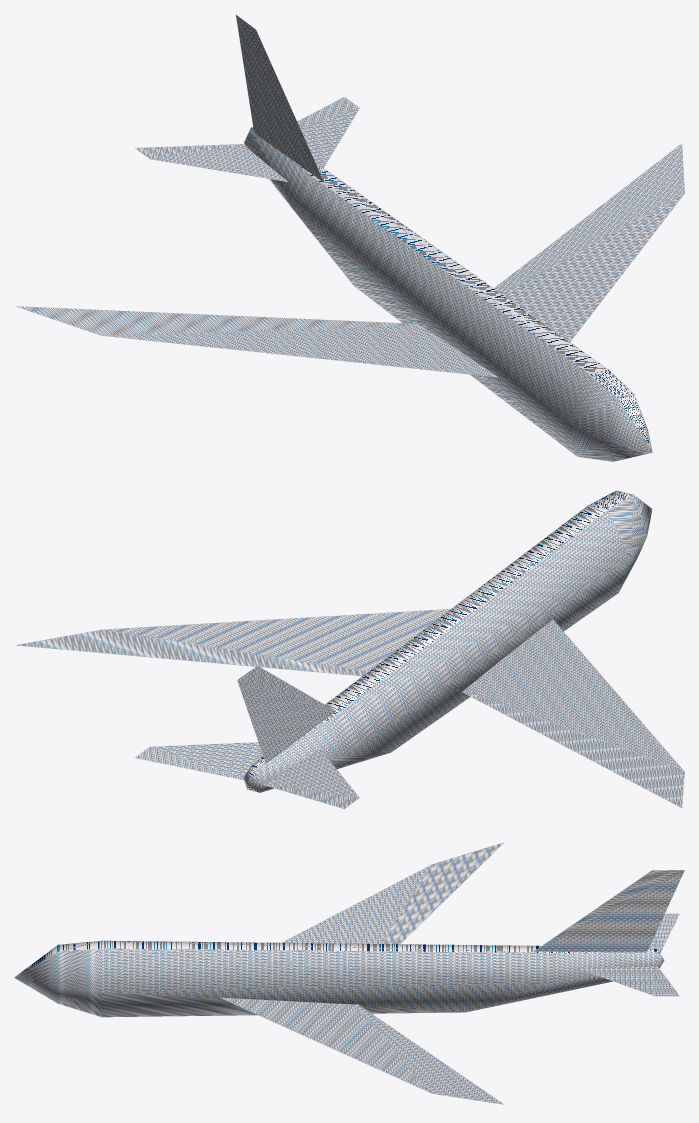
3 renders of one model, top to bottom at view 1: azimuth 30°, elevation 25°; view 2: azimuth 150°, elevation 25°; view 3: azimuth 270°, elevation 25°, orthographic. The views are drawn at different scales.
Parts seen in each view (by area): view 1: Fuselage; view 2: Fuselage; view 3: Fuselage.
Boxes of the visible parts, x1,y1,x2,y2 form: Fuselage: (14,15,684,461); Fuselage: (15,490,684,808); Fuselage: (14,842,684,1104).
Size of the model in its own units: 68.82 by 17 by 74.24.
